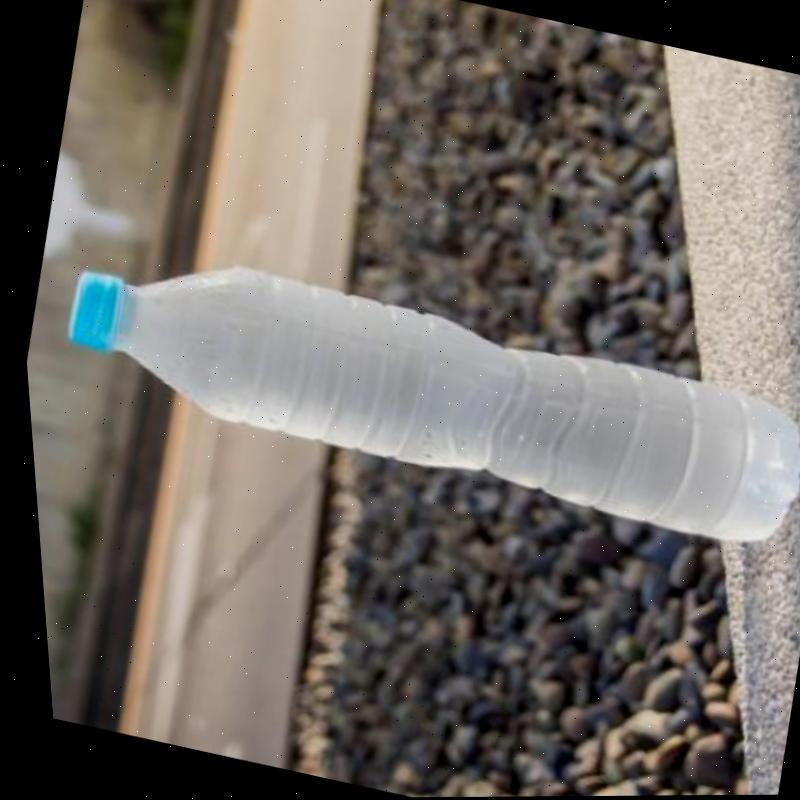botella: (38, 217, 800, 562)
